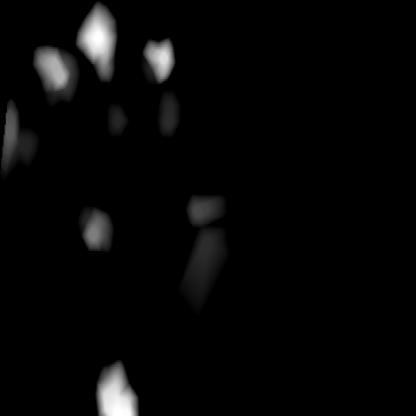fingers: (95, 360, 139, 414)
palm: (5, 3, 179, 168)
thumb: (80, 194, 226, 293)
